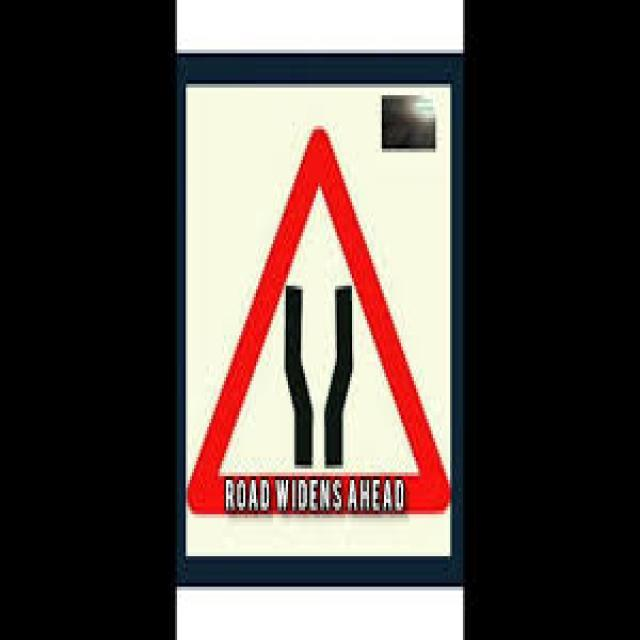road widens ahead: (189, 128, 448, 516)
